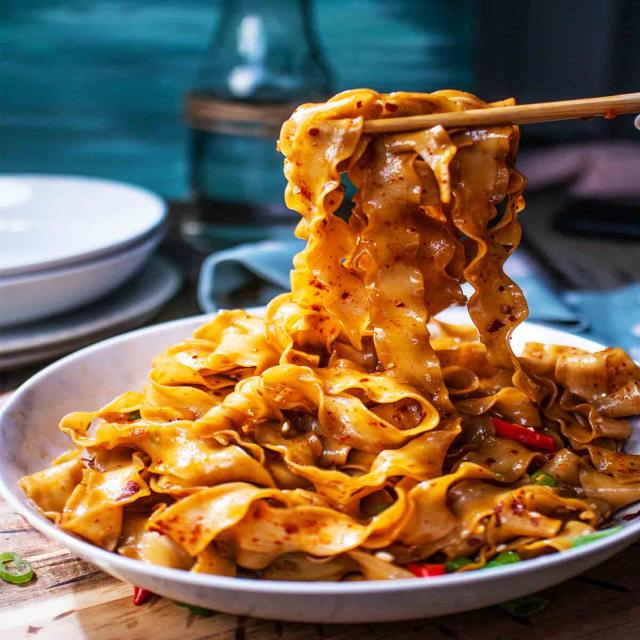noodle: (44, 87, 640, 577)
